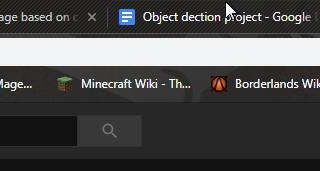cursor: (224, 1, 237, 21)
